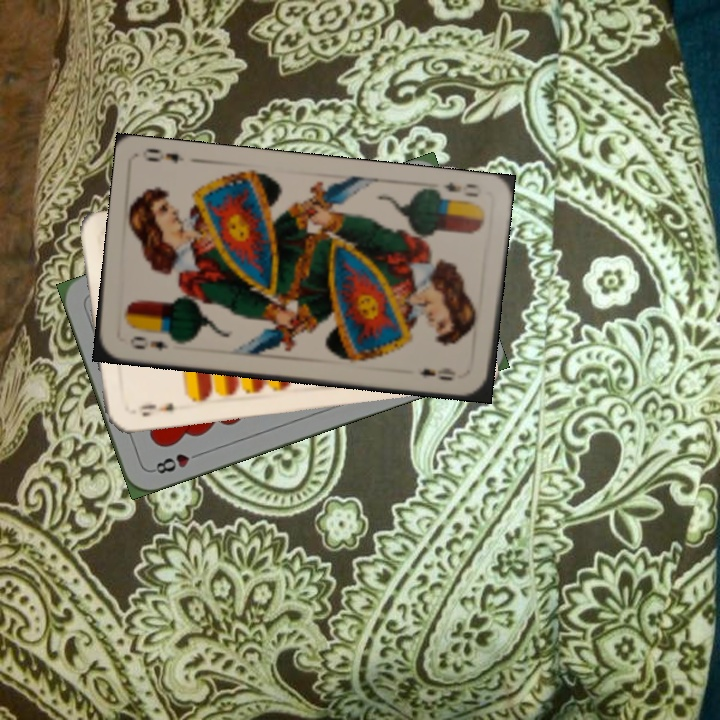E9: (135, 399, 177, 419)
EO: (126, 332, 171, 353), (439, 178, 481, 200)
H8: (148, 448, 205, 477)
